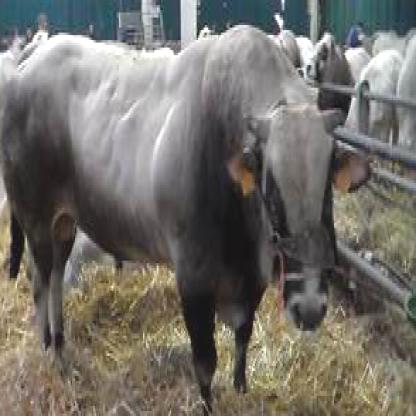cow: (1, 25, 368, 409), (306, 30, 351, 88)
